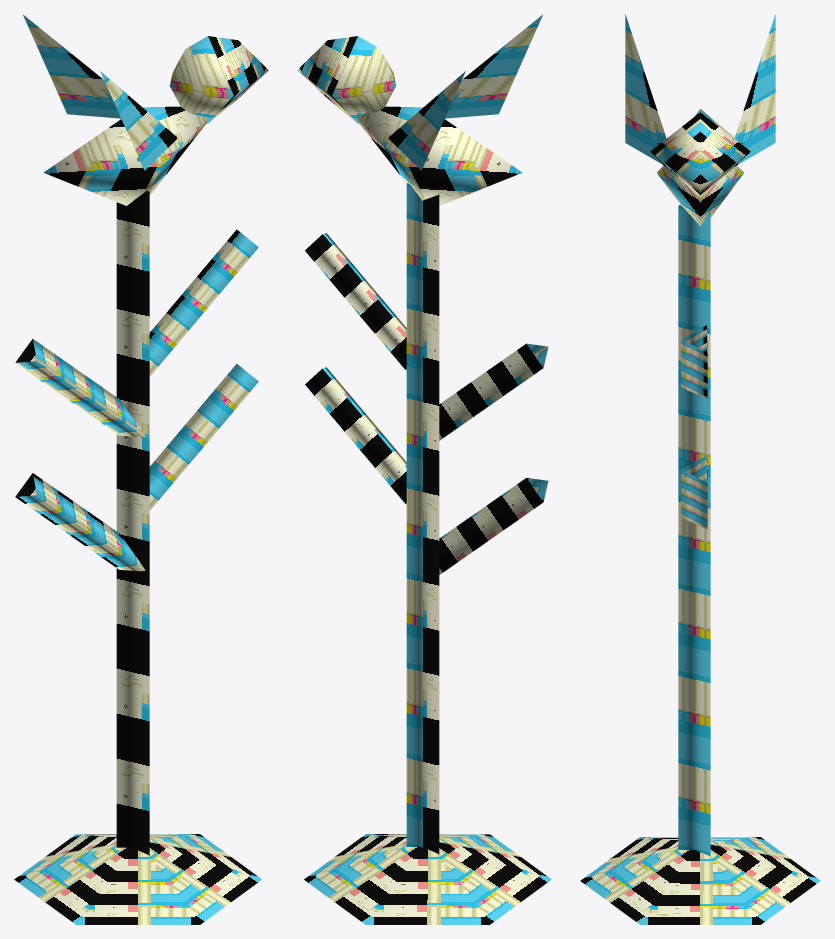
File: 3723kg_sk_hng.gltf
The picture shows the model from 3 angles, left to right: view 1: azimuth 30°, elevation 25°; view 2: azimuth 150°, elevation 25°; view 3: azimuth 270°, elevation 25°; orthographic projection. The views are drawn at different scales.
Visible parts, largest first — view 1: 3723kg_sk_hng; view 2: 3723kg_sk_hng; view 3: 3723kg_sk_hng.
Part boxes in pixels (<box>): 3723kg_sk_hng: <box>14,14,268,924</box>; 3723kg_sk_hng: <box>297,14,551,924</box>; 3723kg_sk_hng: <box>580,14,820,924</box>.
Size of the model in its own units: 0.6326 by 2.07 by 0.5435.
Materials: 1 (1 with a texture image).
